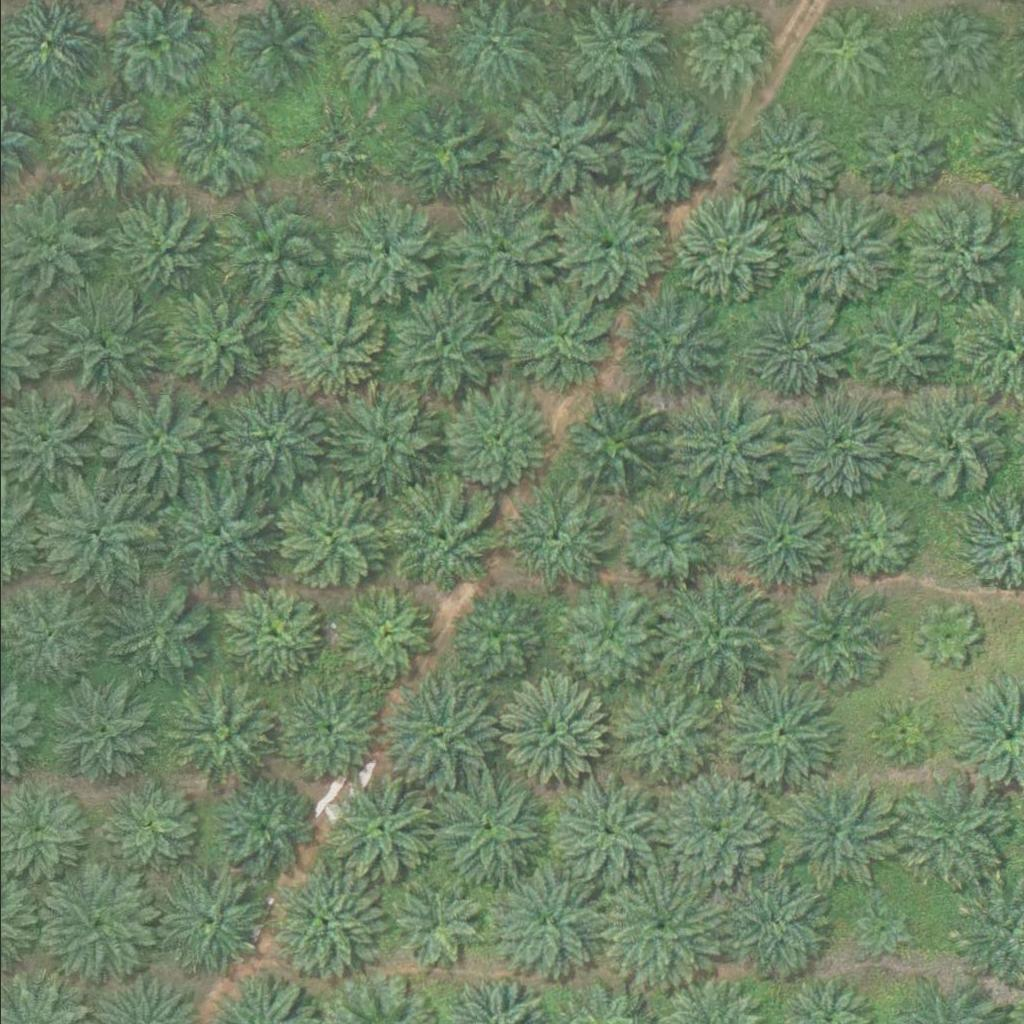Kelapa_Sawit: (555, 393, 669, 506), (730, 101, 844, 214), (503, 278, 617, 391), (437, 385, 551, 498), (384, 483, 498, 596), (273, 480, 387, 593), (101, 581, 215, 694), (782, 771, 895, 884), (659, 775, 772, 888), (722, 677, 835, 790), (893, 385, 1006, 498), (780, 389, 893, 502), (665, 390, 778, 503), (835, 292, 948, 405), (610, 93, 723, 206), (495, 92, 608, 205), (389, 95, 502, 208), (207, 193, 320, 306), (325, 381, 438, 494), (492, 677, 605, 790), (547, 770, 660, 883), (433, 773, 546, 886), (328, 774, 441, 887), (268, 868, 381, 981), (152, 865, 265, 978), (38, 870, 151, 983), (158, 478, 271, 591), (36, 480, 149, 593), (615, 288, 729, 400), (784, 198, 898, 310), (663, 194, 777, 306), (166, 675, 280, 787), (42, 674, 156, 786), (717, 869, 830, 981), (604, 871, 717, 983), (893, 780, 1006, 892), (603, 677, 716, 789), (776, 581, 889, 693), (654, 580, 767, 692), (718, 483, 831, 595), (733, 293, 846, 405), (901, 199, 1014, 311), (549, 189, 662, 301), (445, 194, 558, 306), (327, 195, 440, 307), (386, 290, 499, 402), (271, 291, 384, 403), (218, 388, 331, 500), (379, 675, 492, 787), (269, 673, 382, 785), (486, 865, 599, 977), (99, 386, 212, 498), (155, 286, 268, 398), (40, 289, 153, 401), (40, 91, 153, 203), (613, 491, 714, 591), (558, 591, 659, 691), (448, 592, 549, 692), (213, 776, 314, 876), (380, 876, 481, 976), (108, 193, 209, 293), (169, 100, 270, 200), (841, 100, 941, 200), (509, 494, 609, 594), (334, 590, 434, 690), (222, 586, 322, 686), (95, 777, 195, 877), (833, 495, 921, 583), (289, 116, 378, 203), (902, 1, 990, 88), (683, 8, 771, 95), (871, 701, 934, 764), (914, 604, 977, 667), (851, 898, 914, 960)
